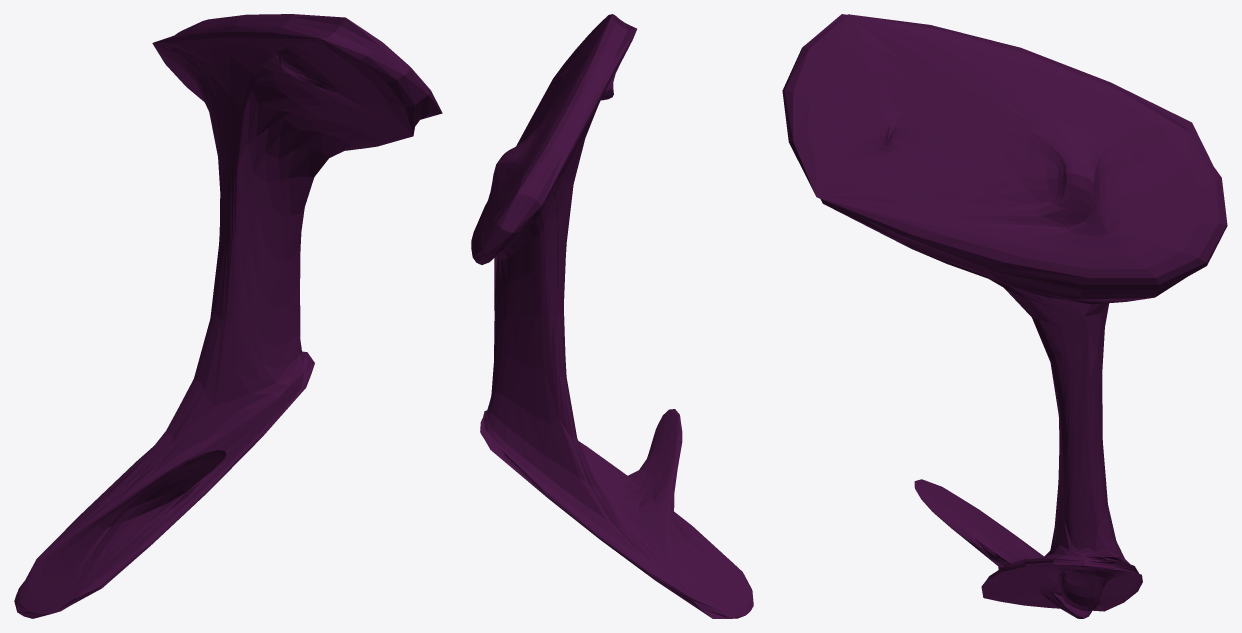
3 renders of one model, left to right at view 1: azimuth 30°, elevation 25°; view 2: azimuth 150°, elevation 25°; view 3: azimuth 270°, elevation 25°, orthographic. The views are drawn at different scales.
Visible parts, largest first — view 1: 227_Cube.931; view 2: 227_Cube.931; view 3: 227_Cube.931.
Part boxes in pixels (x1,y1,x2,y2): 227_Cube.931: (14, 14, 442, 618); 227_Cube.931: (471, 14, 753, 618); 227_Cube.931: (782, 14, 1227, 618).
Size of the model in its own units: 10.94 by 19.06 by 10.41.
